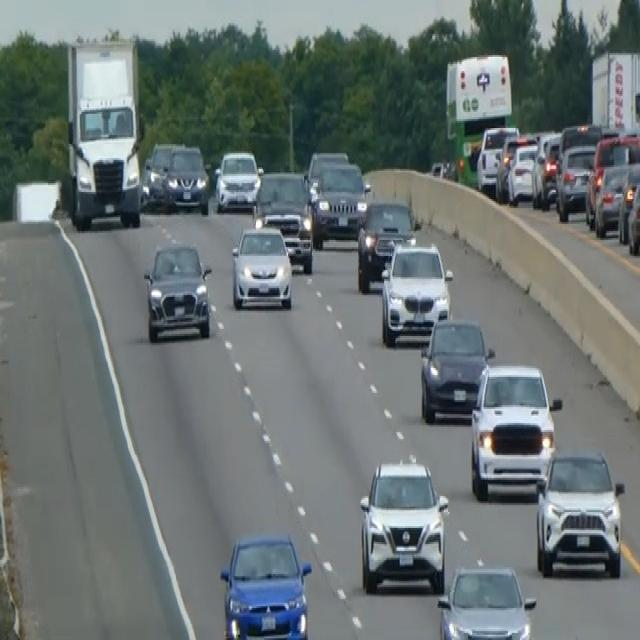car: (469, 361, 561, 499), (358, 455, 448, 594), (534, 446, 625, 578), (218, 530, 312, 638), (418, 315, 494, 423), (379, 238, 453, 345), (436, 562, 536, 638), (142, 240, 212, 343), (252, 169, 314, 272), (356, 198, 417, 292), (230, 222, 293, 311), (584, 132, 639, 230), (310, 158, 371, 245), (554, 140, 596, 220), (163, 142, 209, 214), (475, 122, 518, 194), (214, 148, 261, 212), (593, 160, 630, 236), (531, 133, 561, 208), (506, 138, 539, 204), (305, 148, 348, 198), (617, 160, 639, 245), (146, 140, 176, 202), (627, 174, 639, 256)
lorry: (64, 36, 144, 231)
